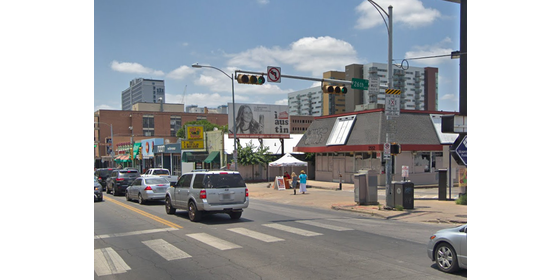no left turn sign: (266, 65, 283, 84)
street name sign: (349, 76, 368, 90)
turning vehicle yield to ped sign: (369, 75, 381, 95)
